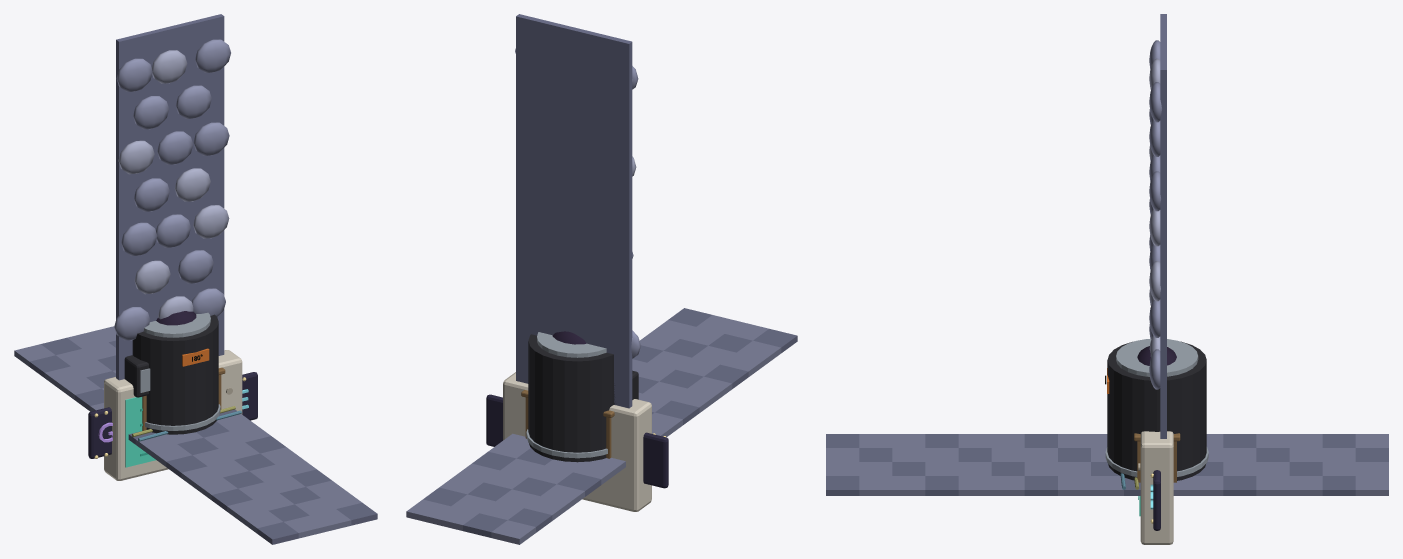
File: kit.glb
3 renders of one model, left to right at view 1: azimuth 30°, elevation 25°; view 2: azimuth 150°, elevation 25°; view 3: azimuth 270°, elevation 25°, orthographic. The views are drawn at different scales.
Parts seen in each view (by area): view 1: wall_cave, floor_cave, fryer, monitor, sign_cave; view 2: wall_cave, floor_cave, fryer, monitor, sign_cave, desk; view 3: floor_cave, fryer, wall_cave, monitor.
Part boxes in pixels (x1,y1,x2,y2): wall_cave: (114, 14, 230, 380); floor_cave: (14, 326, 377, 544); fryer: (124, 312, 220, 434); monitor: (104, 350, 242, 480); sign_cave: (88, 372, 257, 458); wall_cave: (515, 14, 640, 408); floor_cave: (406, 308, 797, 544); fryer: (526, 332, 638, 462); monitor: (503, 372, 651, 511); sign_cave: (486, 394, 668, 488); desk: (521, 390, 614, 458); floor_cave: (826, 434, 1388, 495); fryer: (1105, 338, 1208, 480); wall_cave: (1149, 14, 1166, 438); monitor: (1138, 431, 1173, 544).
Size of the model in its own units: 3.2 by 7.85 by 8.5.
